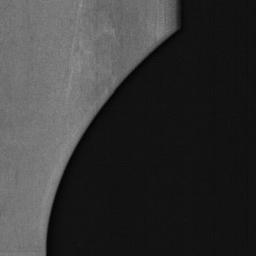Crescent gap: (46, 31, 175, 256)
